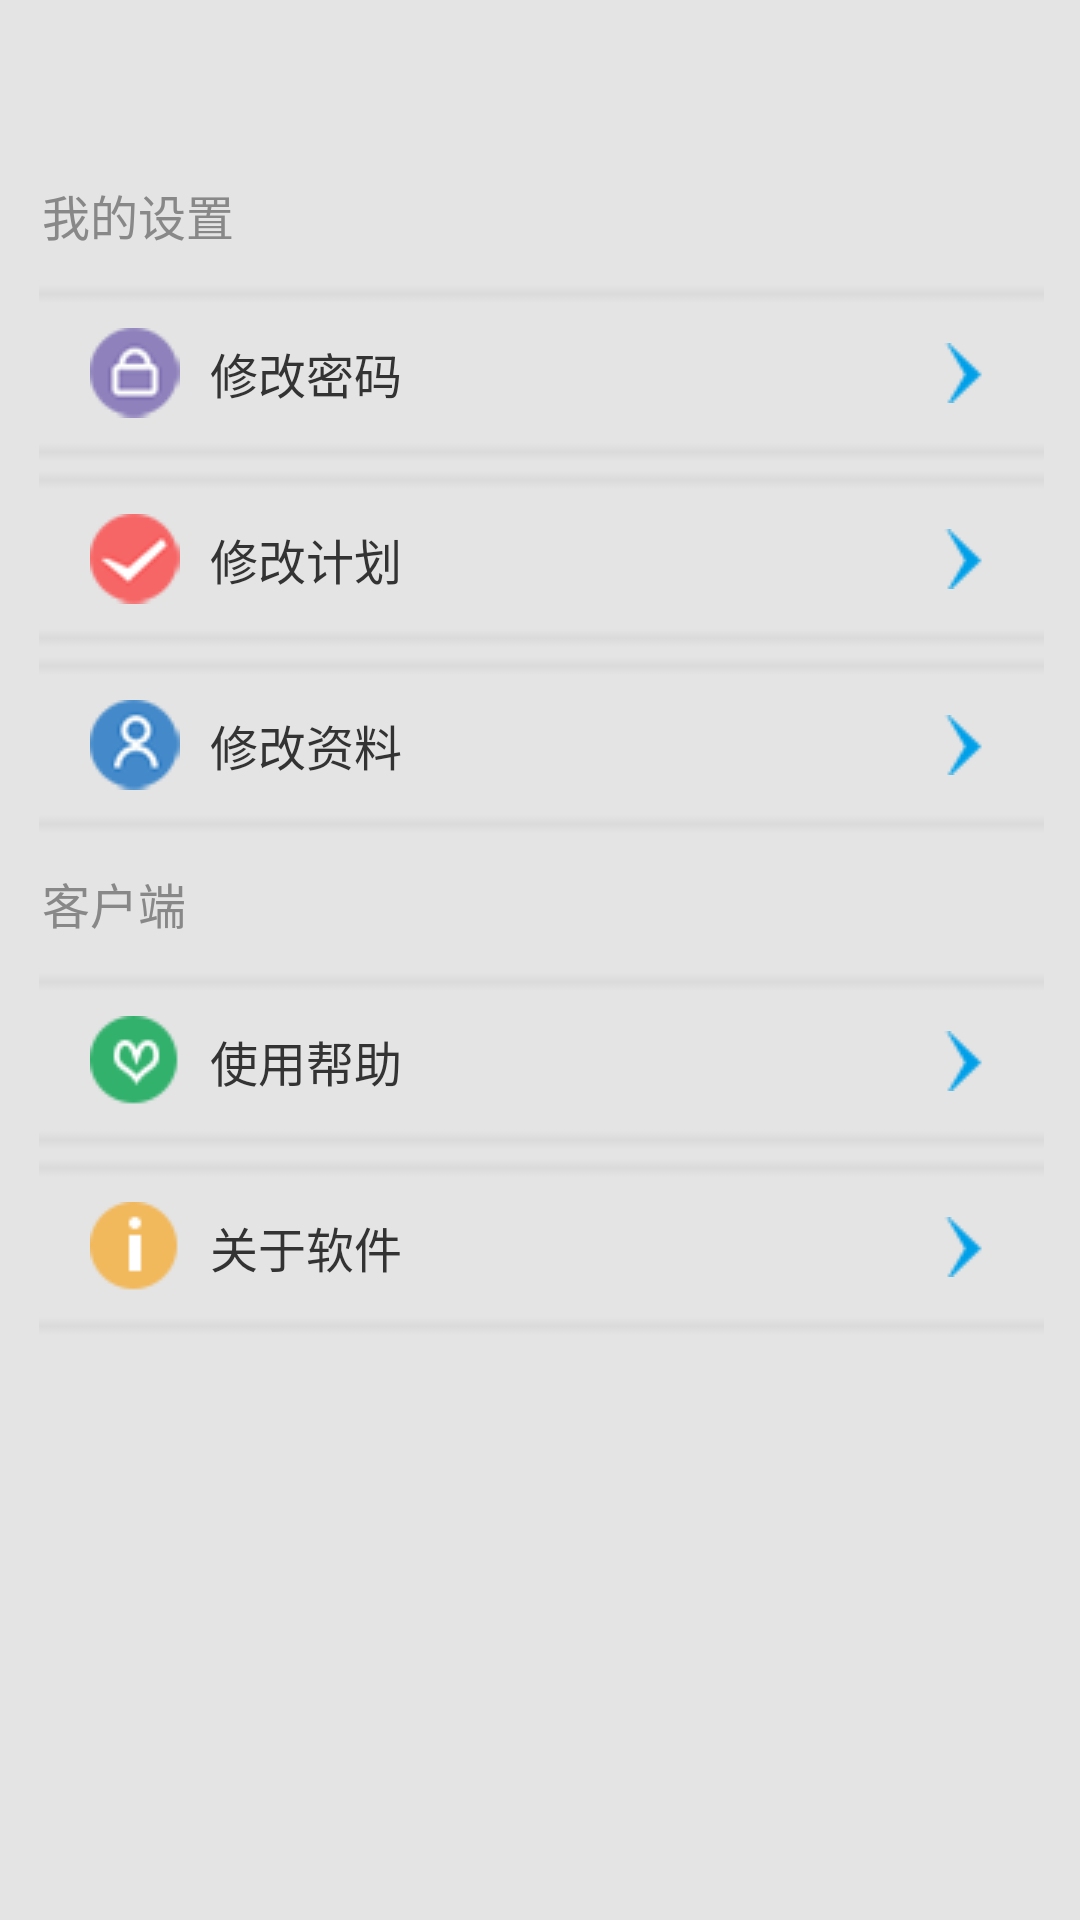

Screen size 1080px×1920px. Icon name, then its center in pixels as (x,y):
jiao: (964,373), (964,559), (964,745), (964,1061), (964,1247)
